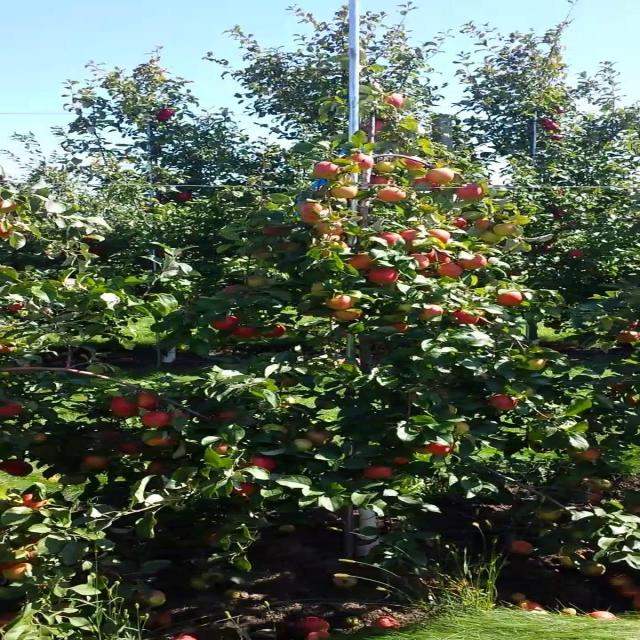apple: (20, 492, 50, 510), (6, 460, 36, 477), (134, 392, 162, 410), (426, 168, 457, 184), (369, 268, 398, 285), (141, 412, 171, 428), (212, 316, 242, 332), (376, 188, 405, 204), (490, 396, 519, 412), (419, 304, 448, 320), (248, 456, 277, 472), (312, 164, 341, 179), (497, 292, 526, 307), (305, 432, 334, 447), (412, 176, 441, 191), (326, 296, 357, 310), (84, 456, 112, 471), (262, 324, 290, 339), (461, 256, 489, 271), (113, 396, 135, 415), (6, 564, 32, 580), (362, 468, 396, 480), (348, 256, 377, 270), (575, 448, 604, 462), (348, 156, 375, 171), (333, 308, 364, 321), (454, 188, 484, 200), (440, 260, 462, 276), (426, 232, 453, 245), (426, 444, 455, 456), (454, 312, 482, 324), (148, 436, 176, 448), (99, 428, 121, 443), (376, 232, 400, 245), (234, 484, 260, 496), (319, 224, 345, 236), (440, 264, 462, 278), (369, 176, 396, 187), (333, 188, 357, 200), (234, 328, 258, 340), (1, 404, 23, 417), (298, 204, 324, 215), (35, 444, 57, 457), (148, 464, 171, 476), (525, 360, 548, 372), (497, 224, 519, 236), (383, 96, 405, 108), (120, 444, 142, 456), (483, 232, 505, 244), (376, 160, 398, 172), (618, 332, 639, 344), (433, 252, 453, 264), (248, 276, 268, 288), (113, 408, 137, 418), (404, 228, 421, 241), (412, 256, 430, 268), (540, 512, 564, 521), (412, 444, 430, 456), (340, 360, 366, 368), (404, 160, 427, 169), (212, 444, 229, 456), (205, 532, 220, 545), (6, 200, 21, 212), (156, 112, 176, 121), (220, 412, 242, 420), (170, 412, 192, 420), (390, 456, 412, 464), (404, 244, 421, 254), (6, 304, 27, 312), (390, 324, 411, 332), (262, 228, 283, 236), (454, 220, 469, 231), (284, 244, 304, 252), (476, 316, 491, 326), (228, 284, 244, 293), (305, 216, 322, 224), (255, 252, 272, 260), (476, 220, 491, 229), (92, 248, 107, 256), (376, 120, 386, 132), (540, 412, 555, 420), (284, 380, 299, 388), (625, 396, 638, 405), (419, 272, 436, 278), (227, 288, 240, 293), (6, 344, 14, 352), (340, 332, 348, 338), (412, 396, 420, 400)
